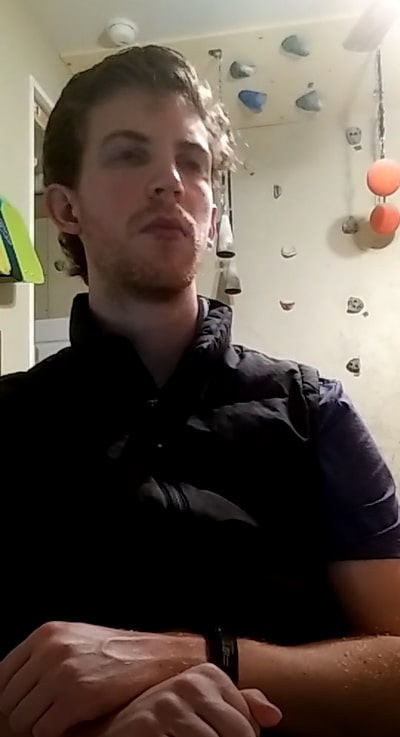Half Asleep: (96, 127, 210, 188)
